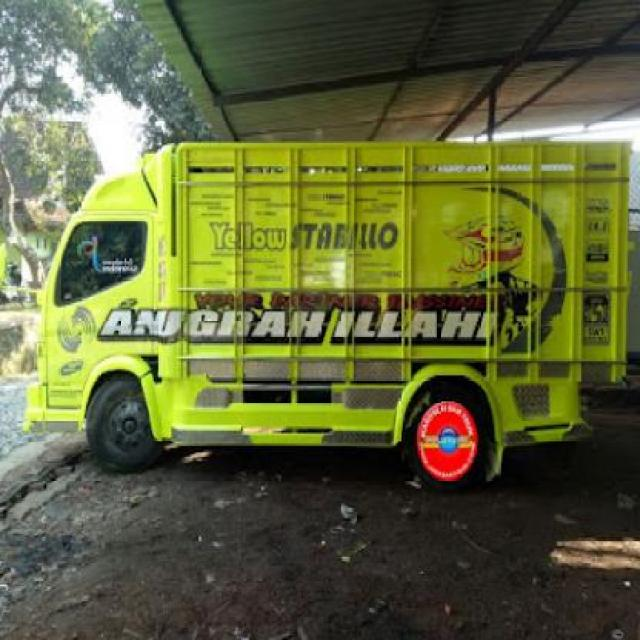truck: (12, 137, 639, 488)
